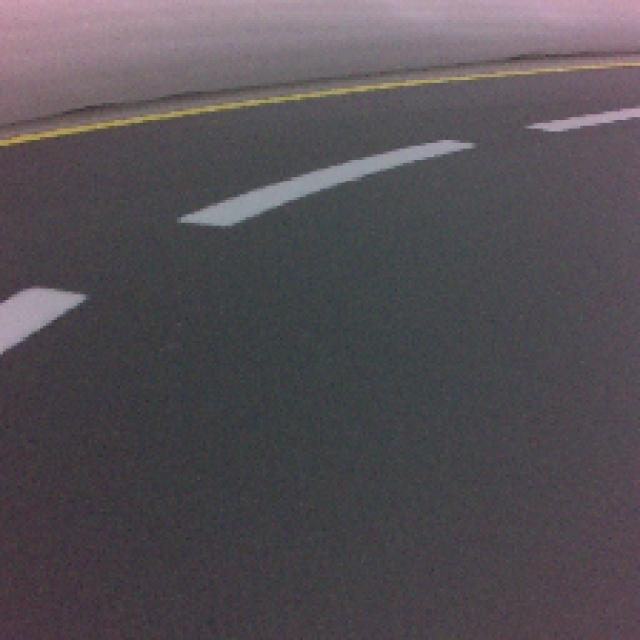Road: (0, 406, 631, 638)
